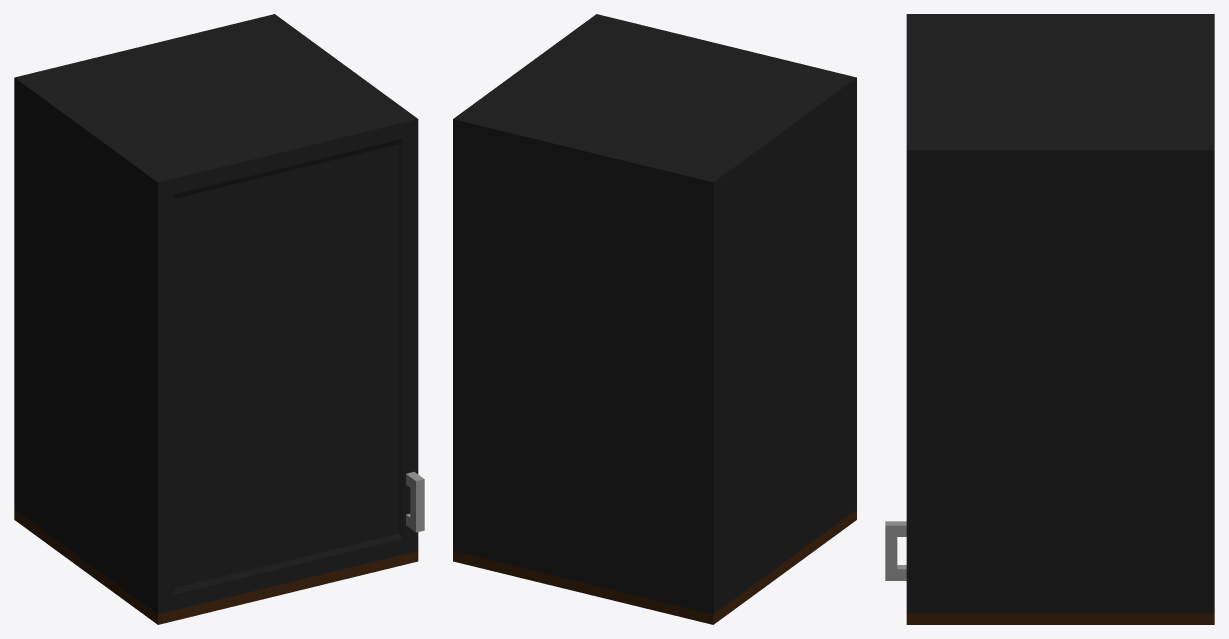
Rendered from ArmarioCocina1.FBX.
The picture shows the model from 3 angles, left to right: view 1: azimuth 30°, elevation 25°; view 2: azimuth 150°, elevation 25°; view 3: azimuth 270°, elevation 25°; orthographic projection. The views are drawn at different scales.
Visible parts, largest first — view 1: ArmarioCocina; view 2: ArmarioCocina; view 3: ArmarioCocina.
Boxes of the visible parts, x1=… form: ArmarioCocina: x1=14, y1=14, x2=424, y2=624; ArmarioCocina: x1=453, y1=14, x2=856, y2=624; ArmarioCocina: x1=885, y1=14, x2=1214, y2=624.
Bounding box in the file's own units: 1.57 × 2.54 × 1.6.
